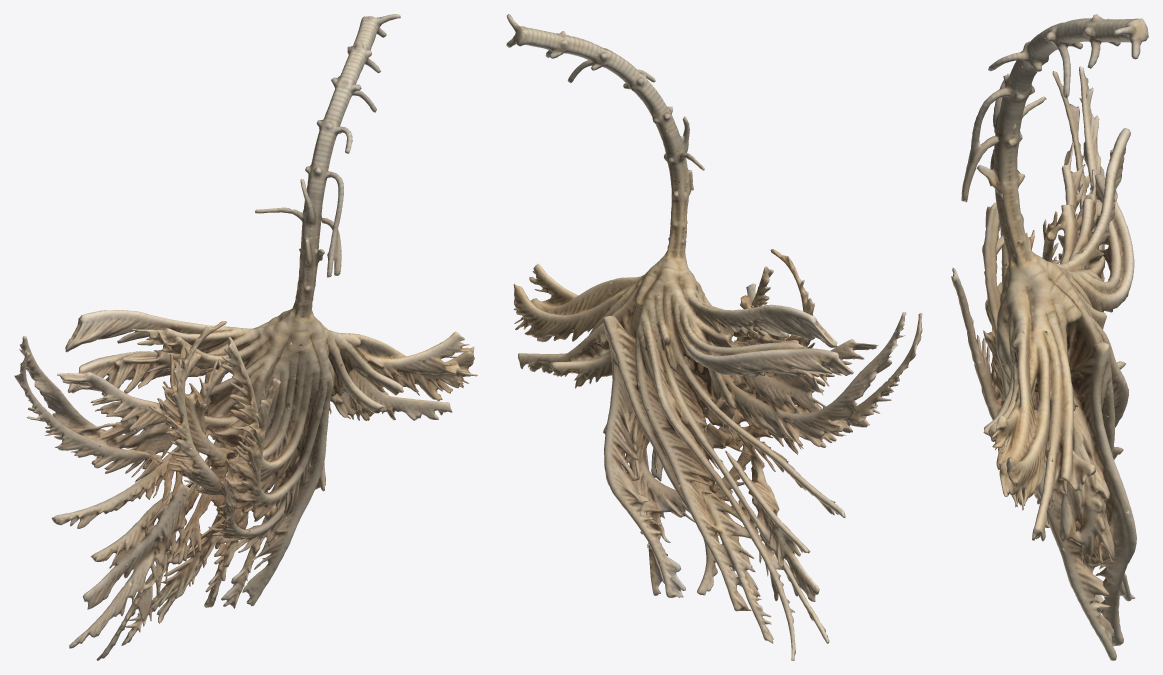
The model's file is crinoide.glb.
3 views of the same model, side by side, from view 1: azimuth 30°, elevation 25°; view 2: azimuth 150°, elevation 25°; view 3: azimuth 270°, elevation 25° (orthographic). The views are drawn at different scales.
Parts seen in each view (by area): view 1: Endoxocrinus_parrae-unwrapped-webmulti; view 2: Endoxocrinus_parrae-unwrapped-webmulti; view 3: Endoxocrinus_parrae-unwrapped-webmulti.
Part boxes in pixels (x1,y1,x2,y2): Endoxocrinus_parrae-unwrapped-webmulti: (14, 14, 477, 660); Endoxocrinus_parrae-unwrapped-webmulti: (506, 14, 922, 660); Endoxocrinus_parrae-unwrapped-webmulti: (951, 14, 1148, 660).
Bounding box in the file's own units: 0.1382 × 0.1754 × 0.0414.
Materials: 1 (1 with a texture image).
